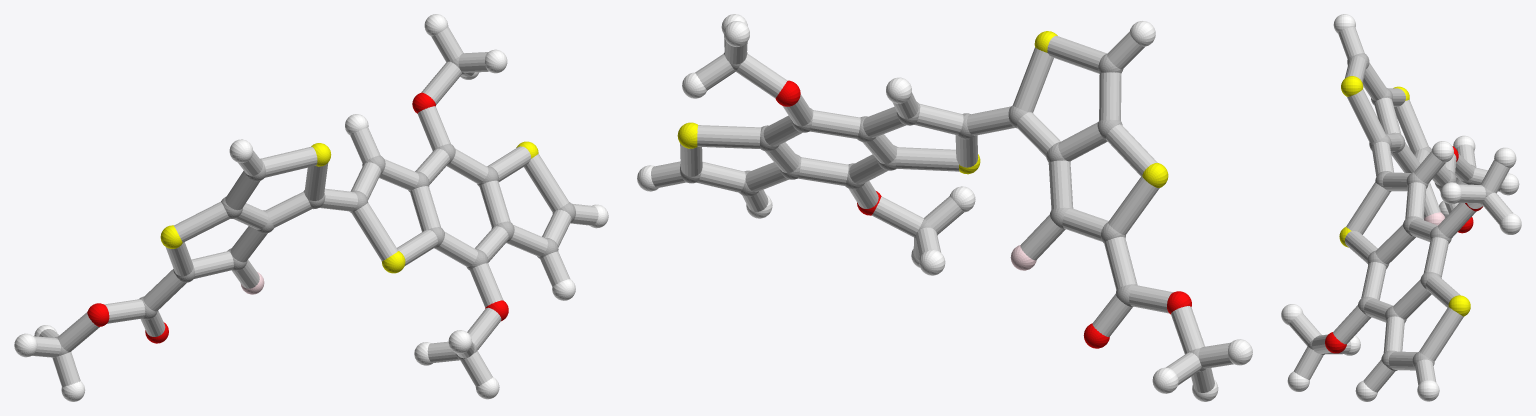
Rendered from color.glb.
3 renders of one model, left to right at view 1: azimuth 30°, elevation 25°; view 2: azimuth 150°, elevation 25°; view 3: azimuth 270°, elevation 25°, orthographic. The views are drawn at different scales.
Visible parts, largest first — view 1: grp15205, grp8689, grp1, grp7241, grp13395; view 2: grp15205, grp8689, grp1, grp13395, grp7241; view 3: grp15205, grp8689, grp1, grp7241, grp13395.
Boxes of the visible parts, x1,y1,x2,y2 form: grp15205: [32, 27, 598, 386]; grp8689: [14, 14, 608, 401]; grp1: [54, 56, 575, 360]; grp7241: [160, 141, 538, 273]; grp13395: [87, 92, 508, 343]; grp15205: [651, 29, 1233, 392]; grp8689: [637, 14, 1252, 401]; grp1: [680, 51, 1205, 371]; grp13395: [775, 80, 1191, 348]; grp7241: [677, 31, 1168, 187]; grp15205: [1289, 27, 1512, 392]; grp8689: [1281, 14, 1521, 401]; grp1: [1307, 53, 1493, 371]; grp7241: [1339, 76, 1470, 316]; grp13395: [1325, 146, 1482, 353].
Size of the model in its own units: 16.67 by 8.18 by 6.49.
